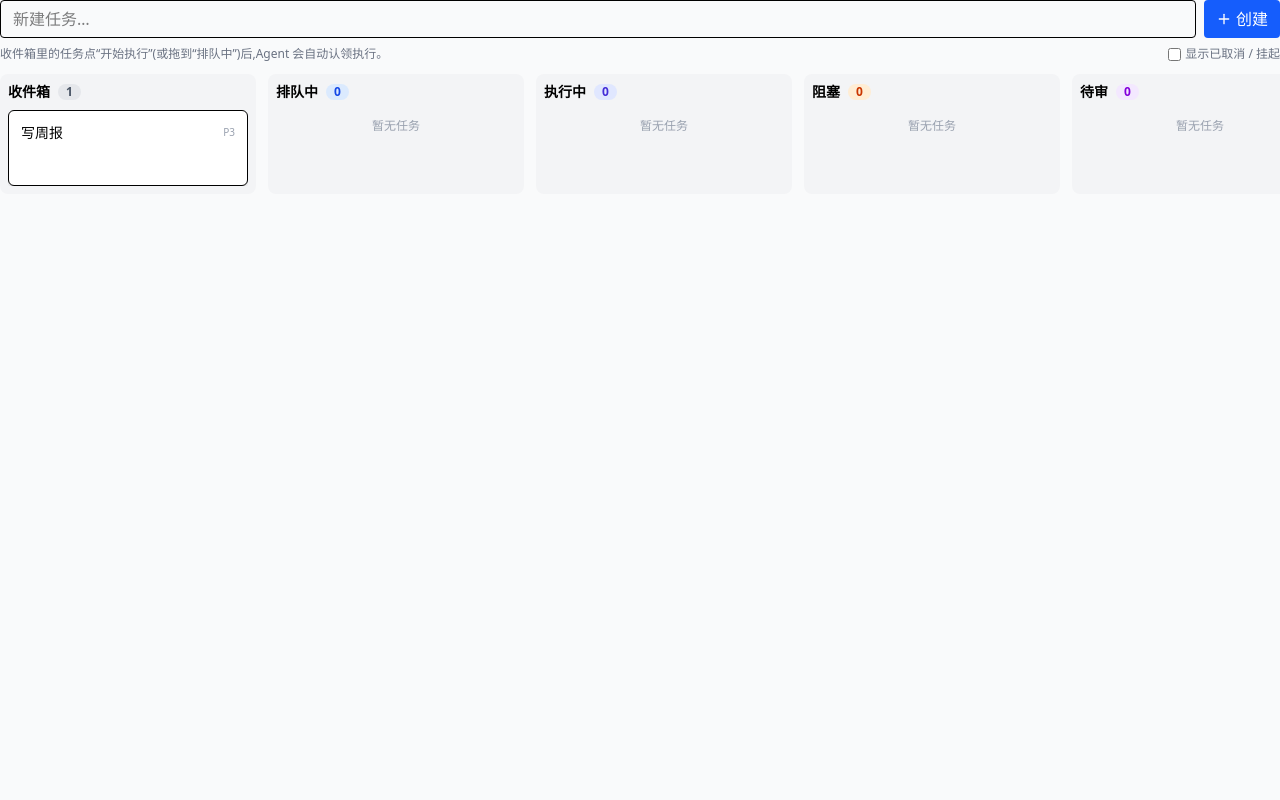
it: Kanban 看板 › 点卡片打开详情抽屉
Click the button with aria-label "查看任务详情：写周报" at (42, 132), box [21,123,235,143]
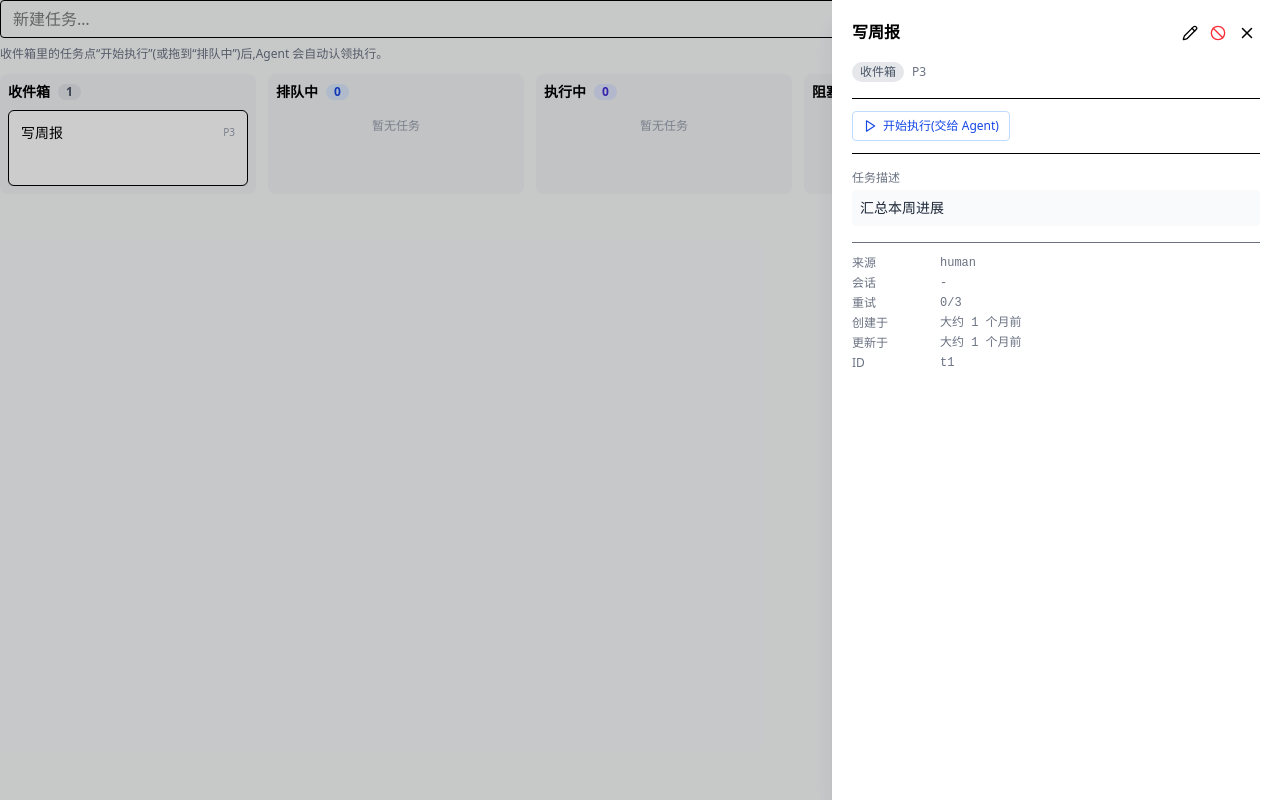
Check: the dialog is shown, box [832,0,1279,799]
Check: the heading "任务描述" is shown, box [852,169,900,186]
